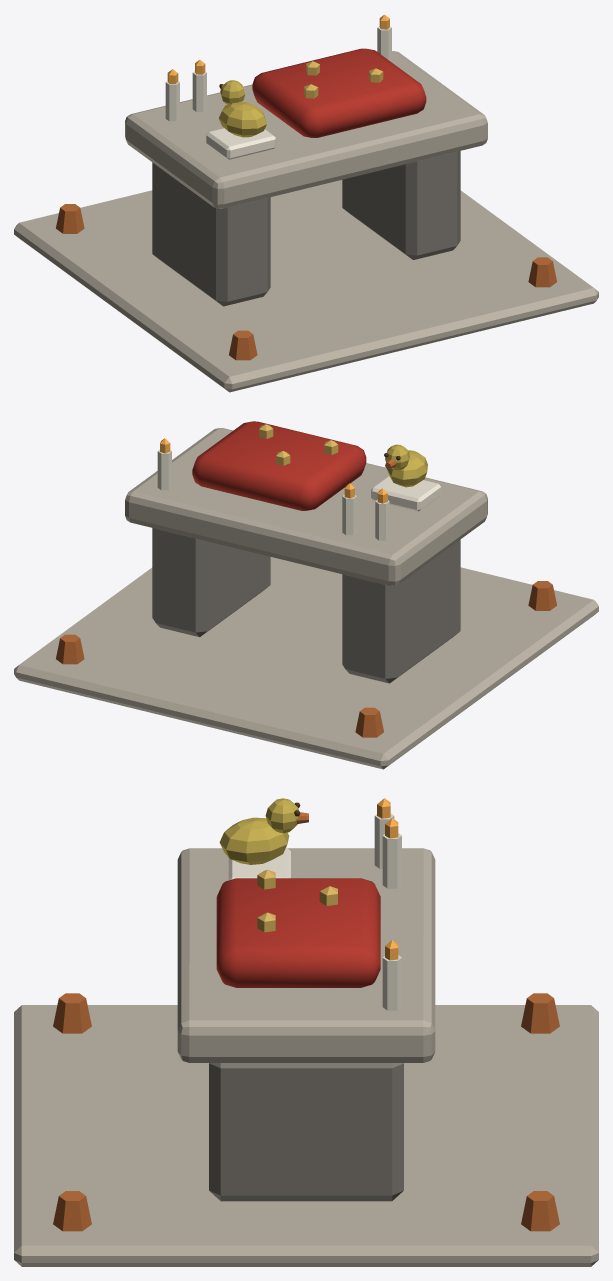
Rendered from comfy_altar.fbx.
The picture shows the model from 3 angles, top to bottom: view 1: azimuth 30°, elevation 25°; view 2: azimuth 150°, elevation 25°; view 3: azimuth 270°, elevation 25°; orthographic projection. The views are drawn at different scales.
Parts seen in each view (by area): view 1: Building; view 2: Building; view 3: Building, Flames.
Boxes of the visible parts, x1,y1,x2,y2 form: Building: (14, 26, 598, 392); Building: (14, 421, 598, 769); Building: (14, 798, 598, 1266); Flames: (377, 798, 398, 960).
Size of the model in its own units: 1.5 by 1.5 by 0.827.
